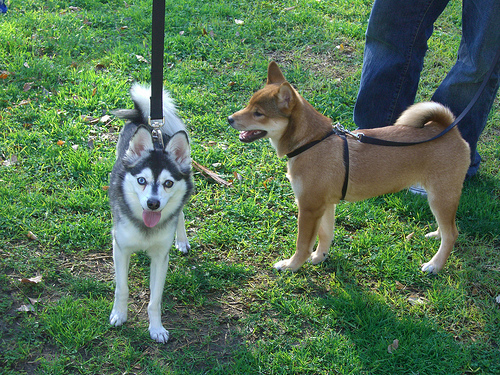dog: (224, 60, 471, 279), (110, 80, 194, 345)
